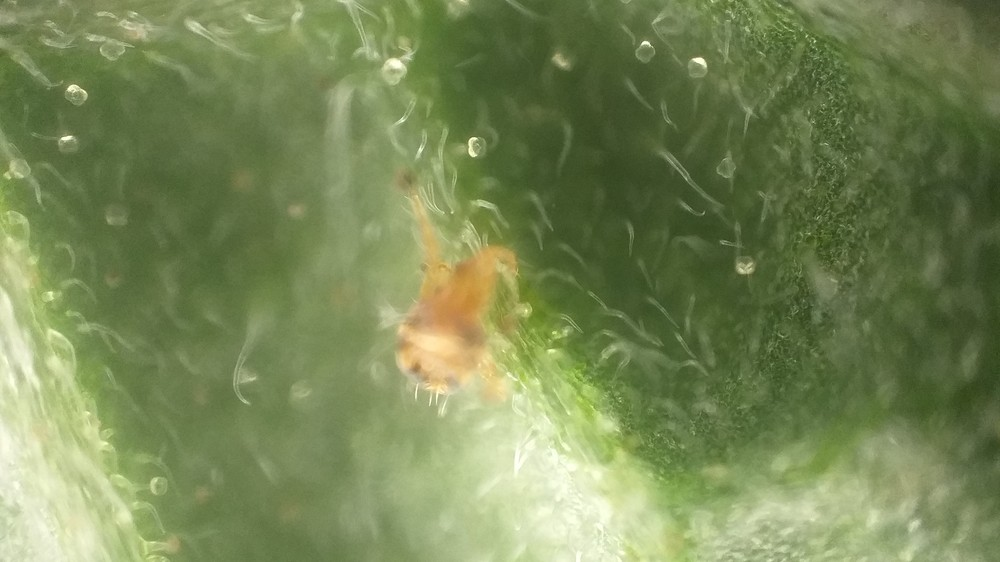Aracnido Rojo: (355, 184, 538, 451)
